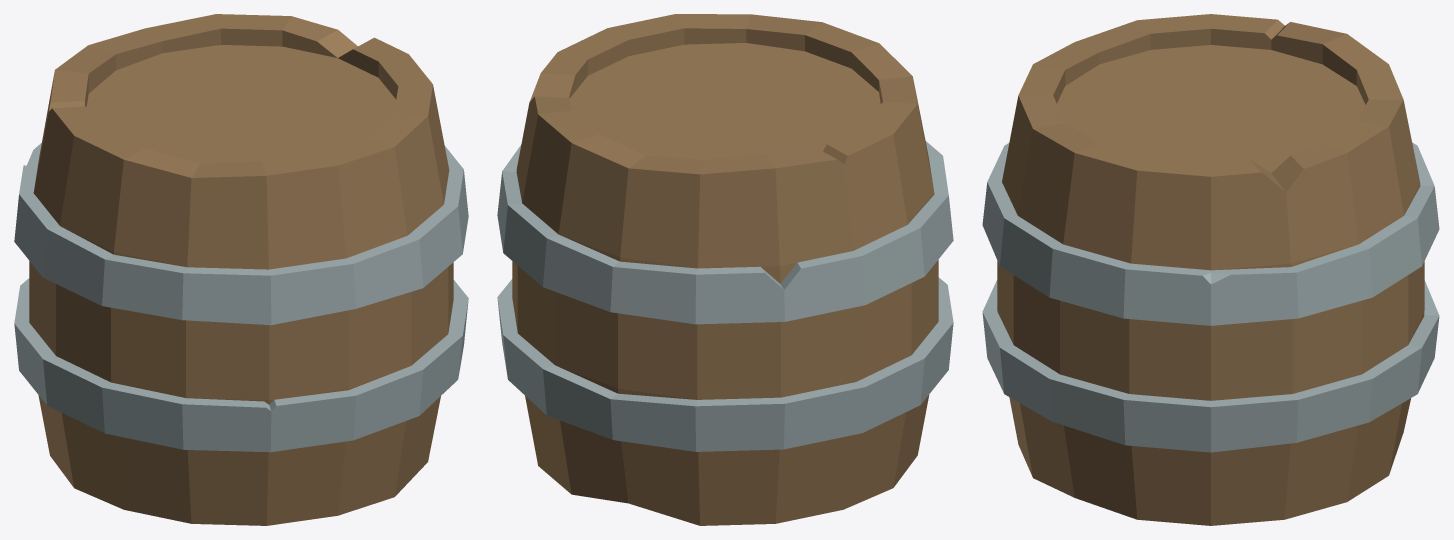
File: barrel_02.fbx
The picture shows the model from 3 angles, left to right: view 1: azimuth 30°, elevation 25°; view 2: azimuth 150°, elevation 25°; view 3: azimuth 270°, elevation 25°; orthographic projection.
Parts seen in each view (by area): view 1: Cylinder; view 2: Cylinder; view 3: Cylinder.
Part boxes in pixels (x1=…): Cylinder: x1=14, y1=14, x2=468, y2=525; Cylinder: x1=497, y1=14, x2=953, y2=525; Cylinder: x1=982, y1=14, x2=1439, y2=525.
Bounding box in the file's own units: 119 × 102 × 119.
